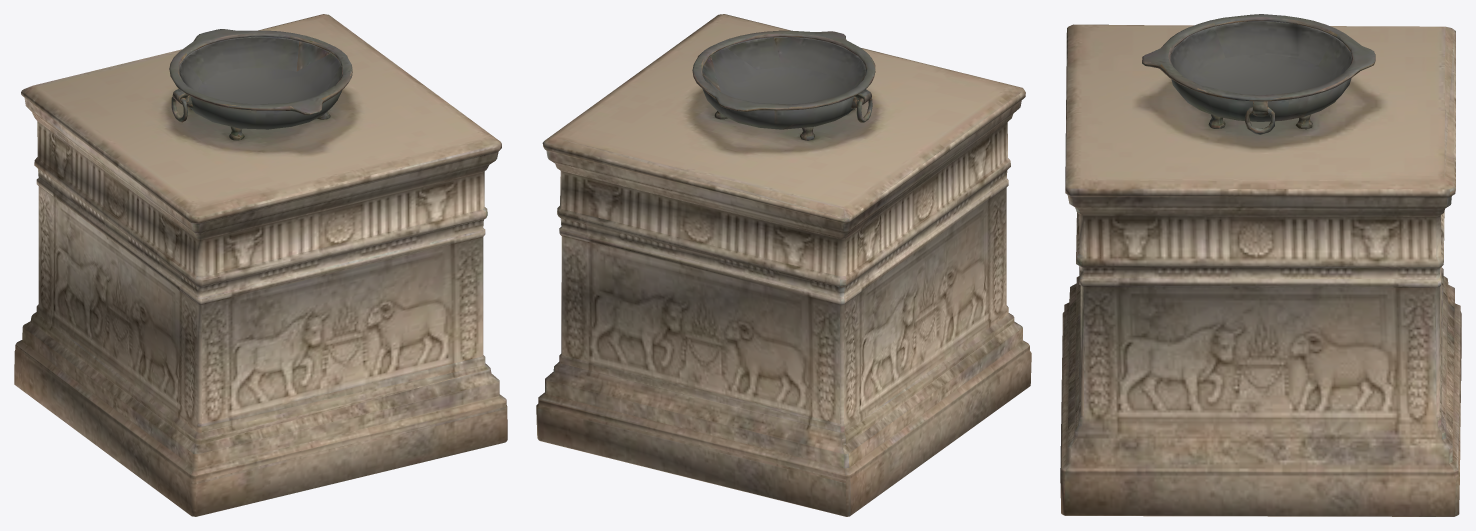
Rendered from marble_altar.glb.
3 renders of one model, left to right at view 1: azimuth 30°, elevation 25°; view 2: azimuth 150°, elevation 25°; view 3: azimuth 270°, elevation 25°, orthographic. The views are drawn at different scales.
Parts seen in each view (by area): view 1: marble_altar; view 2: marble_altar; view 3: marble_altar.
Boxes of the visible parts, x1,y1,x2,y2 form: marble_altar: (14, 14, 507, 516); marble_altar: (536, 14, 1031, 516); marble_altar: (1060, 14, 1461, 516).
Bounding box in the file's own units: 1.16 × 1.2 × 1.16.
Materials: 1 (1 with a texture image).
